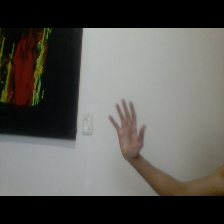left: (102, 96, 151, 161)
